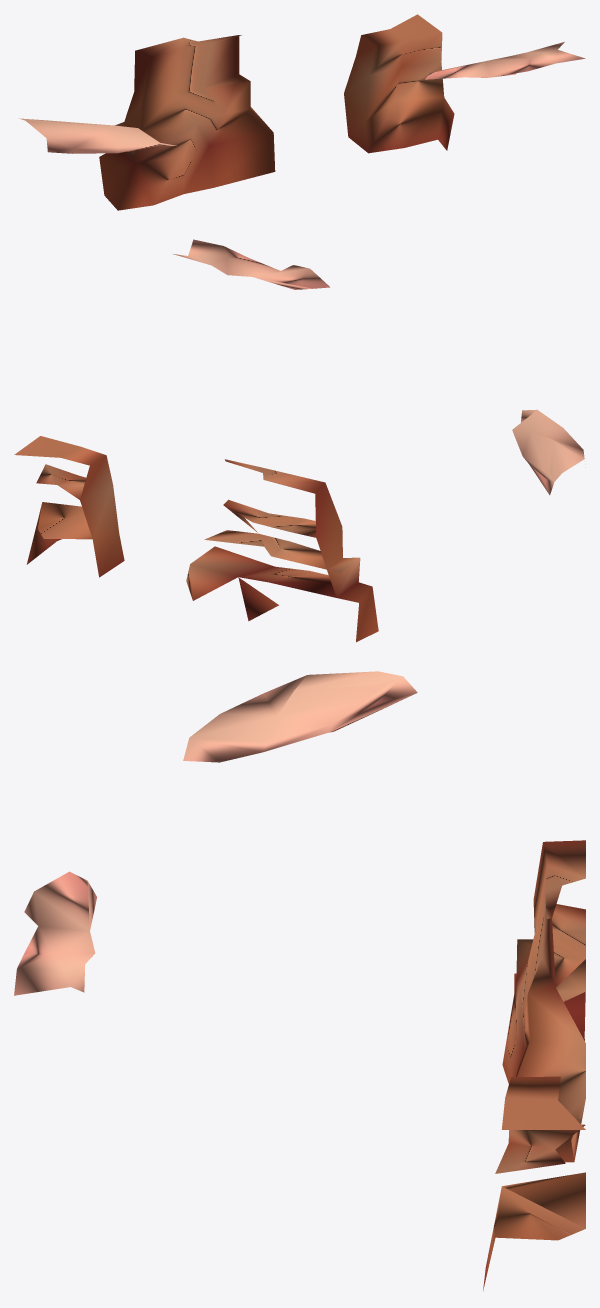
3 renders of one model, top to bottom at view 1: azimuth 30°, elevation 25°; view 2: azimuth 150°, elevation 25°; view 3: azimuth 270°, elevation 25°, orthographic. The views are drawn at different scales.
Parts seen in each view (by area): view 1: scene.l1.1.3 (×2); view 2: scene.l1.1.3 (×2); view 3: scene.l1.1.3 (×2).
Part boxes in pixels (x1,y1,x2,y2): scene.l1.1.3 (×2): (18,14,585,210); scene.l1.1.3 (×2): (14,239,584,642); scene.l1.1.3 (×2): (14,671,585,1290).
Size of the model in its own units: 125 by 49.21 by 80.44.
